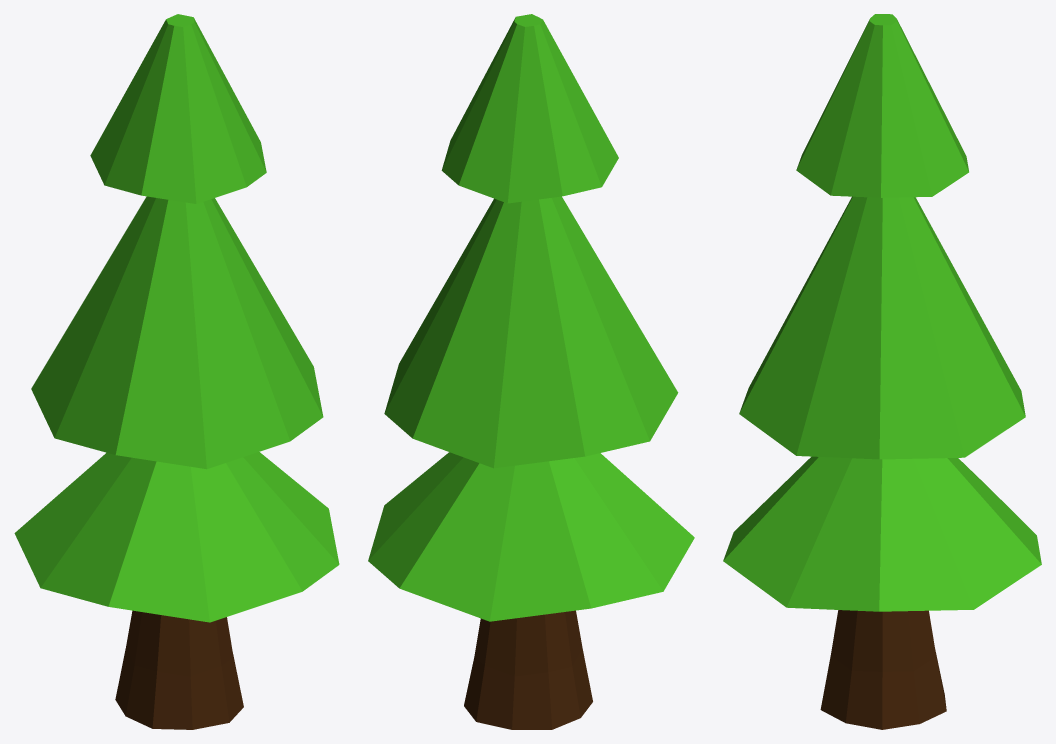
File: Tree.gltf
The picture shows the model from 3 angles, left to right: view 1: azimuth 30°, elevation 25°; view 2: azimuth 150°, elevation 25°; view 3: azimuth 270°, elevation 25°; orthographic projection.
Visible parts, largest first — view 1: Icosphere.001; view 2: Icosphere.001; view 3: Icosphere.001.
Boxes of the visible parts, box(x1,y1,x2,y2) form: Icosphere.001: box(14, 14, 339, 729); Icosphere.001: box(368, 14, 694, 729); Icosphere.001: box(723, 14, 1041, 729).
Size of the model in its own units: 0.9439 by 2.18 by 0.9202.
Materials: 1 (1 with a texture image).
